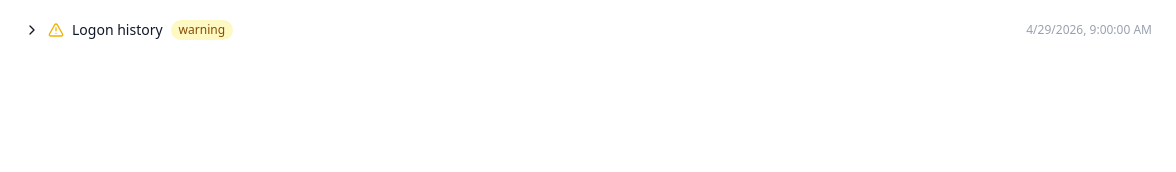
Test: HealthChecksTab › logon_history highlights elevated failure counts
Expected: the text "Logon history" is shown, [72,20,163,40]
Step 1. Click the button "Logon history warning 4/29/2026, 9:00:00 AM" → (117, 30), box [12,12,1164,48]
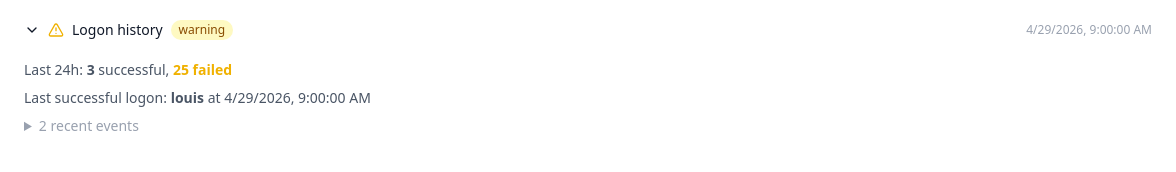
Expected: the text "25 failed" is shown, [173,60,232,79]
Expected: the text "Last successful logon: louis at 4/29/2026, 9:00:00 AM" is shown, [24,88,371,107]
Expected: the text "louis" is shown, [171,88,204,107]
